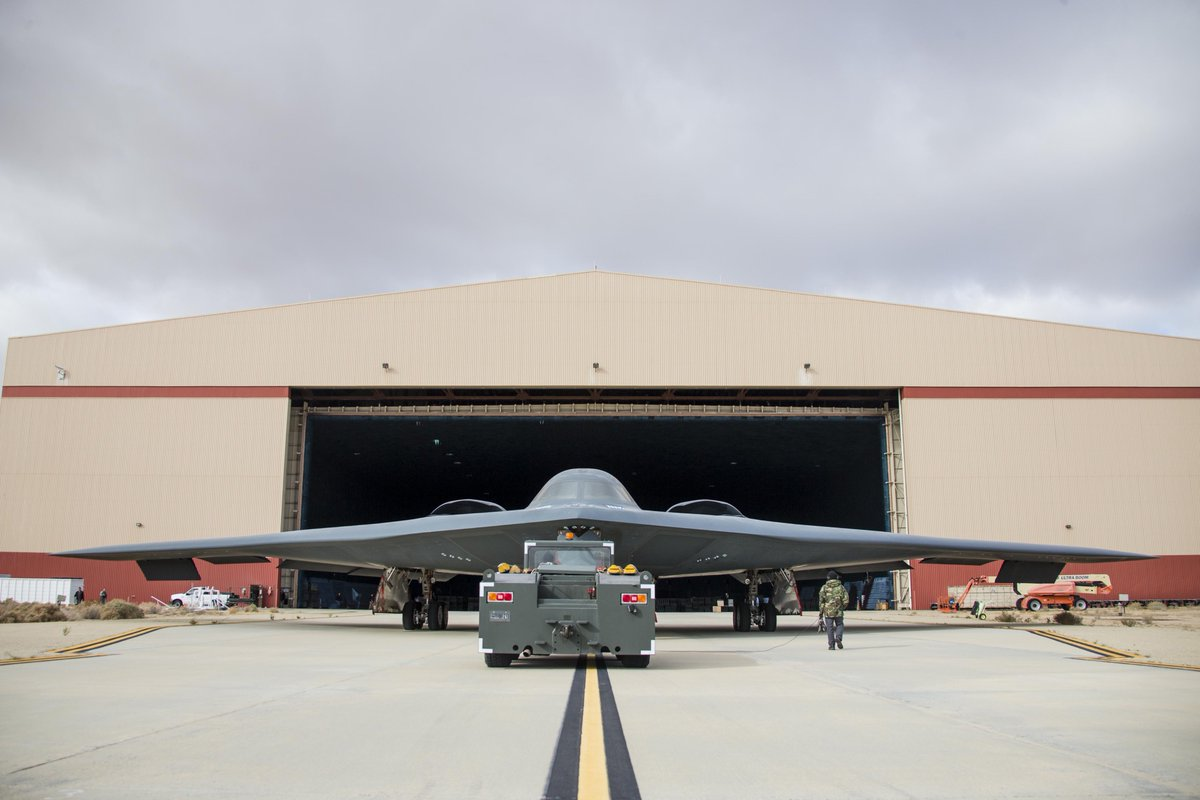B2: (45, 467, 1160, 633)
